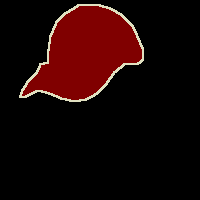hat: (20, 4, 143, 101)
